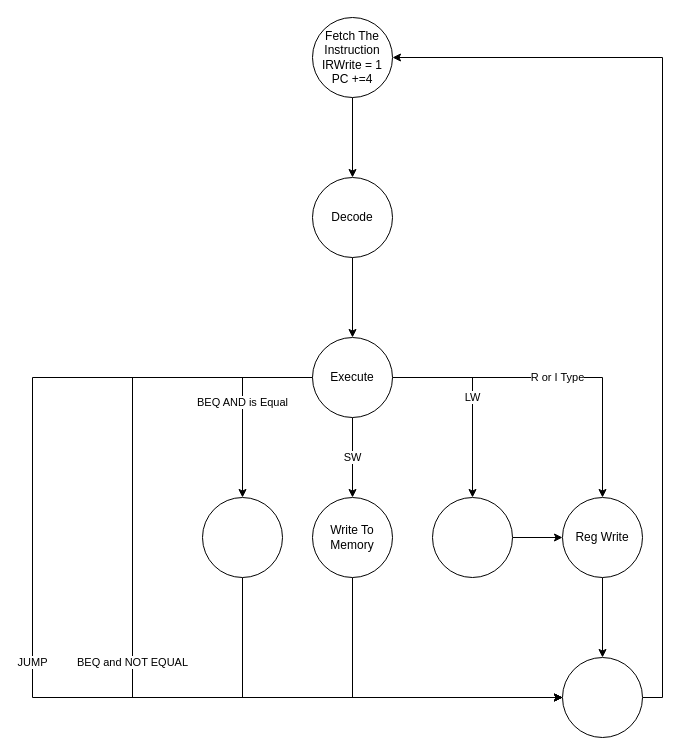
This 688x755 diagram has some shape labels left out. The shapes that lost their labels are listed below. From the top down, each one's centre as x and y in pixels, then its label:
(x=242, y=537): Compute Branch Address
(x=472, y=537): Read From Memory
(x=602, y=697): PC Update
